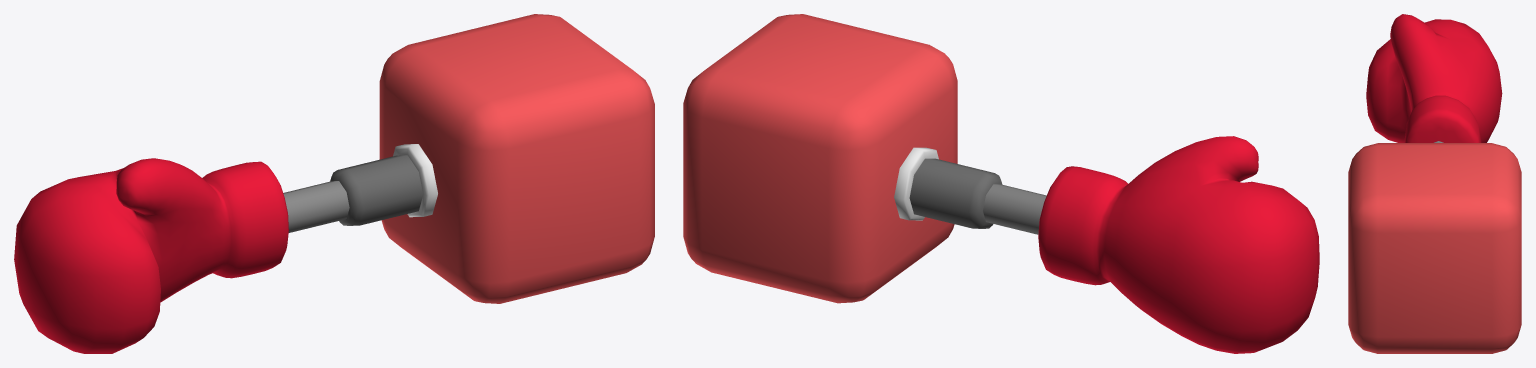
The model's file is BoxGlove.fbx.
3 renders of one model, left to right at view 1: azimuth 30°, elevation 25°; view 2: azimuth 150°, elevation 25°; view 3: azimuth 270°, elevation 25°, orthographic. The views are drawn at different scales.
Parts seen in each view (by area): view 1: Cube, Cylinder.002, Cylinder; view 2: Cube, Cylinder.002, Cylinder; view 3: Cube, Cylinder.002.
Part boxes in pixels (x1=…): Cube: x1=379, y1=14, x2=654, y2=303; Cylinder.002: x1=14, y1=155, x2=423, y2=353; Cylinder: x1=393, y1=144, x2=437, y2=217; Cube: x1=683, y1=14, x2=957, y2=303; Cylinder.002: x1=909, y1=136, x2=1319, y2=353; Cylinder: x1=894, y1=147, x2=938, y2=220; Cube: x1=1348, y1=143, x2=1521, y2=353; Cylinder.002: x1=1366, y1=14, x2=1502, y2=142.
Bounding box in the file's own units: 607 × 204 × 200.
